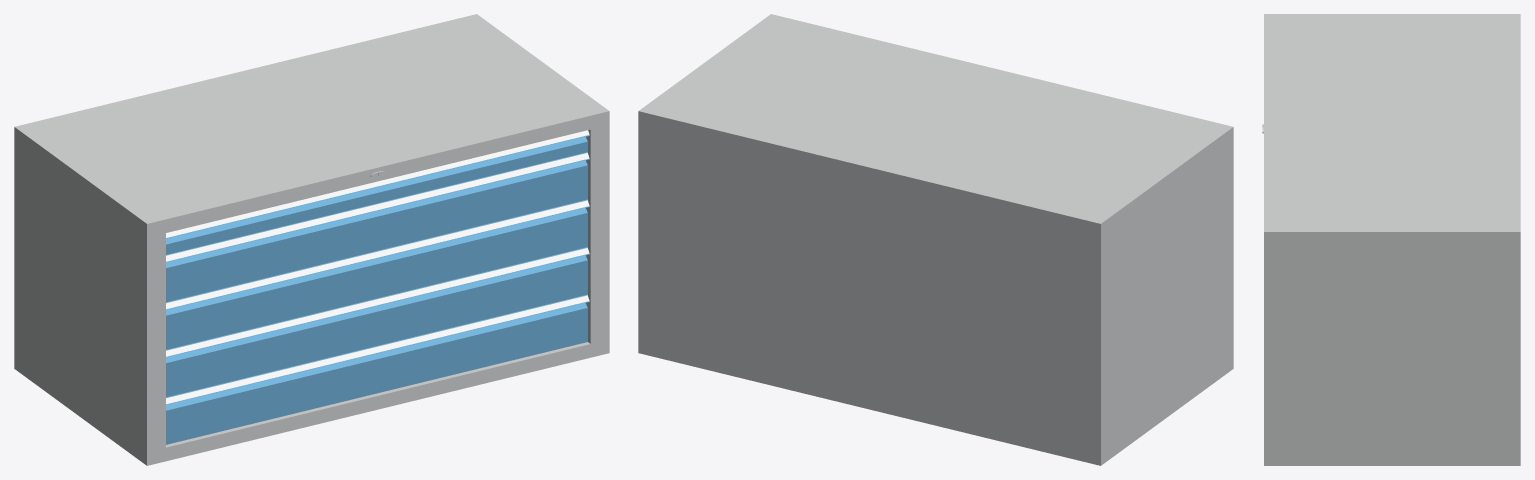
3 renders of one model, left to right at view 1: azimuth 30°, elevation 25°; view 2: azimuth 150°, elevation 25°; view 3: azimuth 270°, elevation 25°, orthographic. The views are drawn at different scales.
Visible parts, largest first — view 1: mesh_2; view 2: mesh_2; view 3: mesh_2.
Part boxes in pixels (x1=…): mesh_2: x1=14, y1=14, x2=609, y2=465; mesh_2: x1=638, y1=14, x2=1233, y2=465; mesh_2: x1=1262, y1=14, x2=1520, y2=465.
Size of the model in its own units: 200 by 100 by 100.
